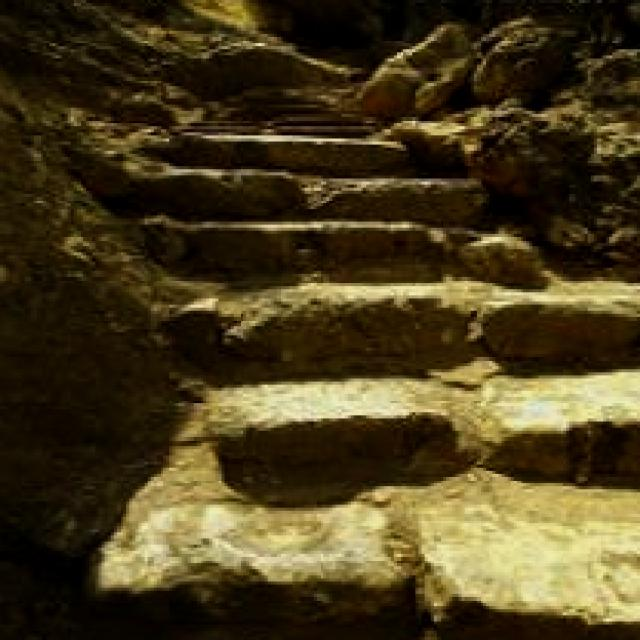upstair: (155, 161, 640, 444)
